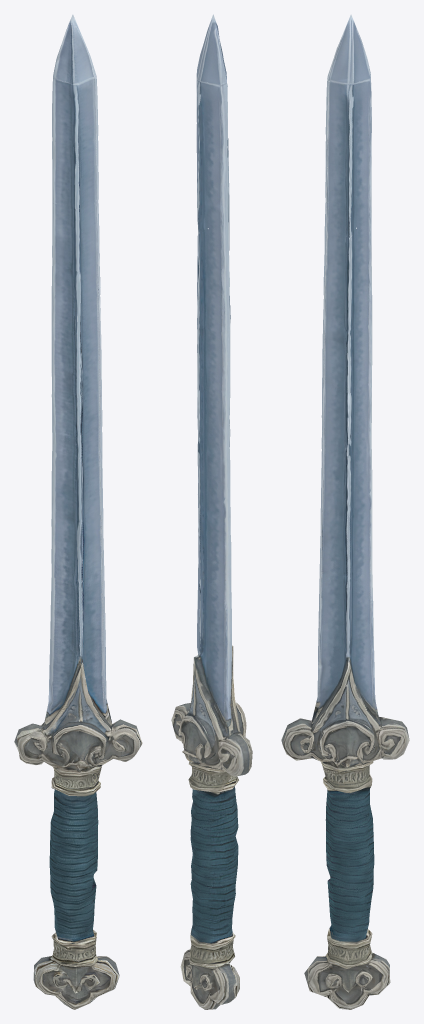
Rendered from eq_longquanjian.tpl_f2_medium.glb.
3 views of the same model, side by side, from view 1: azimuth 90°, elevation 25°; view 2: azimuth 210°, elevation 25°; view 3: azimuth 270°, elevation 25° (orthographic).
Parts seen in each view (by area): view 1: NormalizedProp; view 2: NormalizedProp; view 3: NormalizedProp.
Part boxes in pixels (x1,y1,x2,y2): NormalizedProp: [14, 14, 142, 1009]; NormalizedProp: [171, 14, 252, 1009]; NormalizedProp: [281, 14, 409, 1009].
Size of the model in its own units: 0.0372 by 0.5655 by 0.0662.
1 material, 1 textured.
